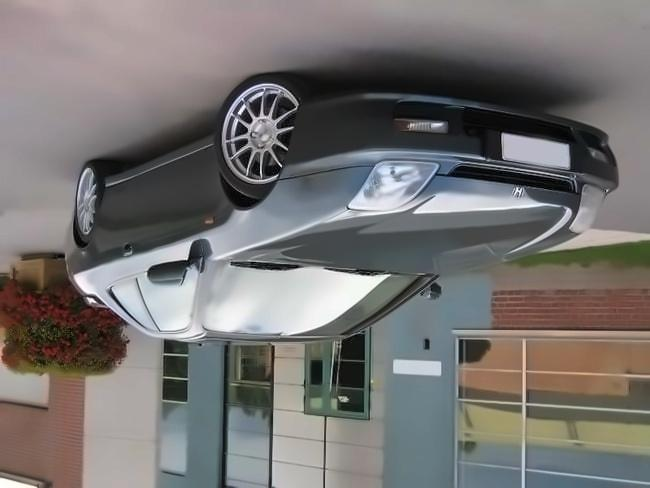Car hood: (230, 159, 610, 275)
Fender - -F-L-: (200, 109, 370, 254)
Front bumper: (280, 86, 632, 189)
Headlight - -L-: (339, 147, 446, 221)
Headlight - -R-: (554, 174, 619, 250)
Passenger-s door - -F-L-: (117, 140, 224, 339)
Rear bumper: (42, 207, 108, 289)
Rear light - -L-: (66, 290, 115, 324)
Side bumper - -L-: (84, 129, 234, 194)
Side mirror - -L-: (139, 234, 216, 290)
Side mirror - -R-: (411, 277, 457, 312)
